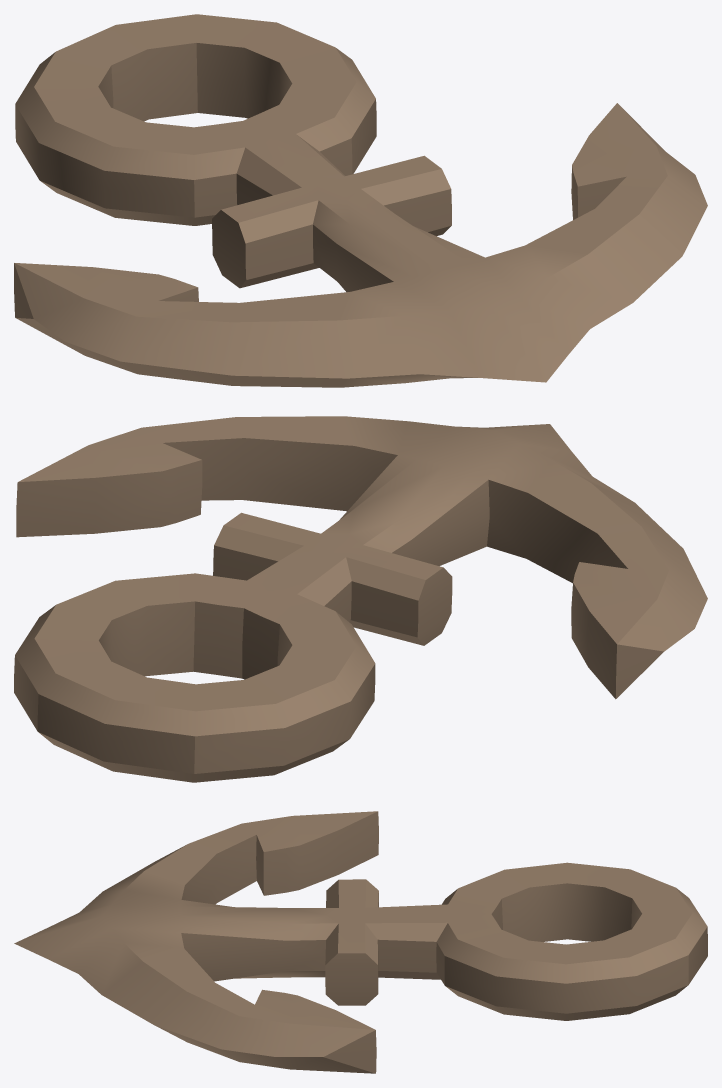
Rendered from beach_anchor.glb.
3 renders of one model, top to bottom at view 1: azimuth 30°, elevation 25°; view 2: azimuth 150°, elevation 25°; view 3: azimuth 270°, elevation 25°, orthographic. The views are drawn at different scales.
Parts seen in each view (by area): view 1: Prop_Anchor; view 2: Prop_Anchor; view 3: Prop_Anchor.
Boxes of the visible parts, left/top/right/bottom form: Prop_Anchor: left=14, top=14, right=707, bottom=387; Prop_Anchor: left=14, top=416, right=707, bottom=782; Prop_Anchor: left=14, top=811, right=707, bottom=1073.
Bounding box in the file's own units: 0.7807 × 0.0932 × 0.9507.
1 material, 1 textured.
